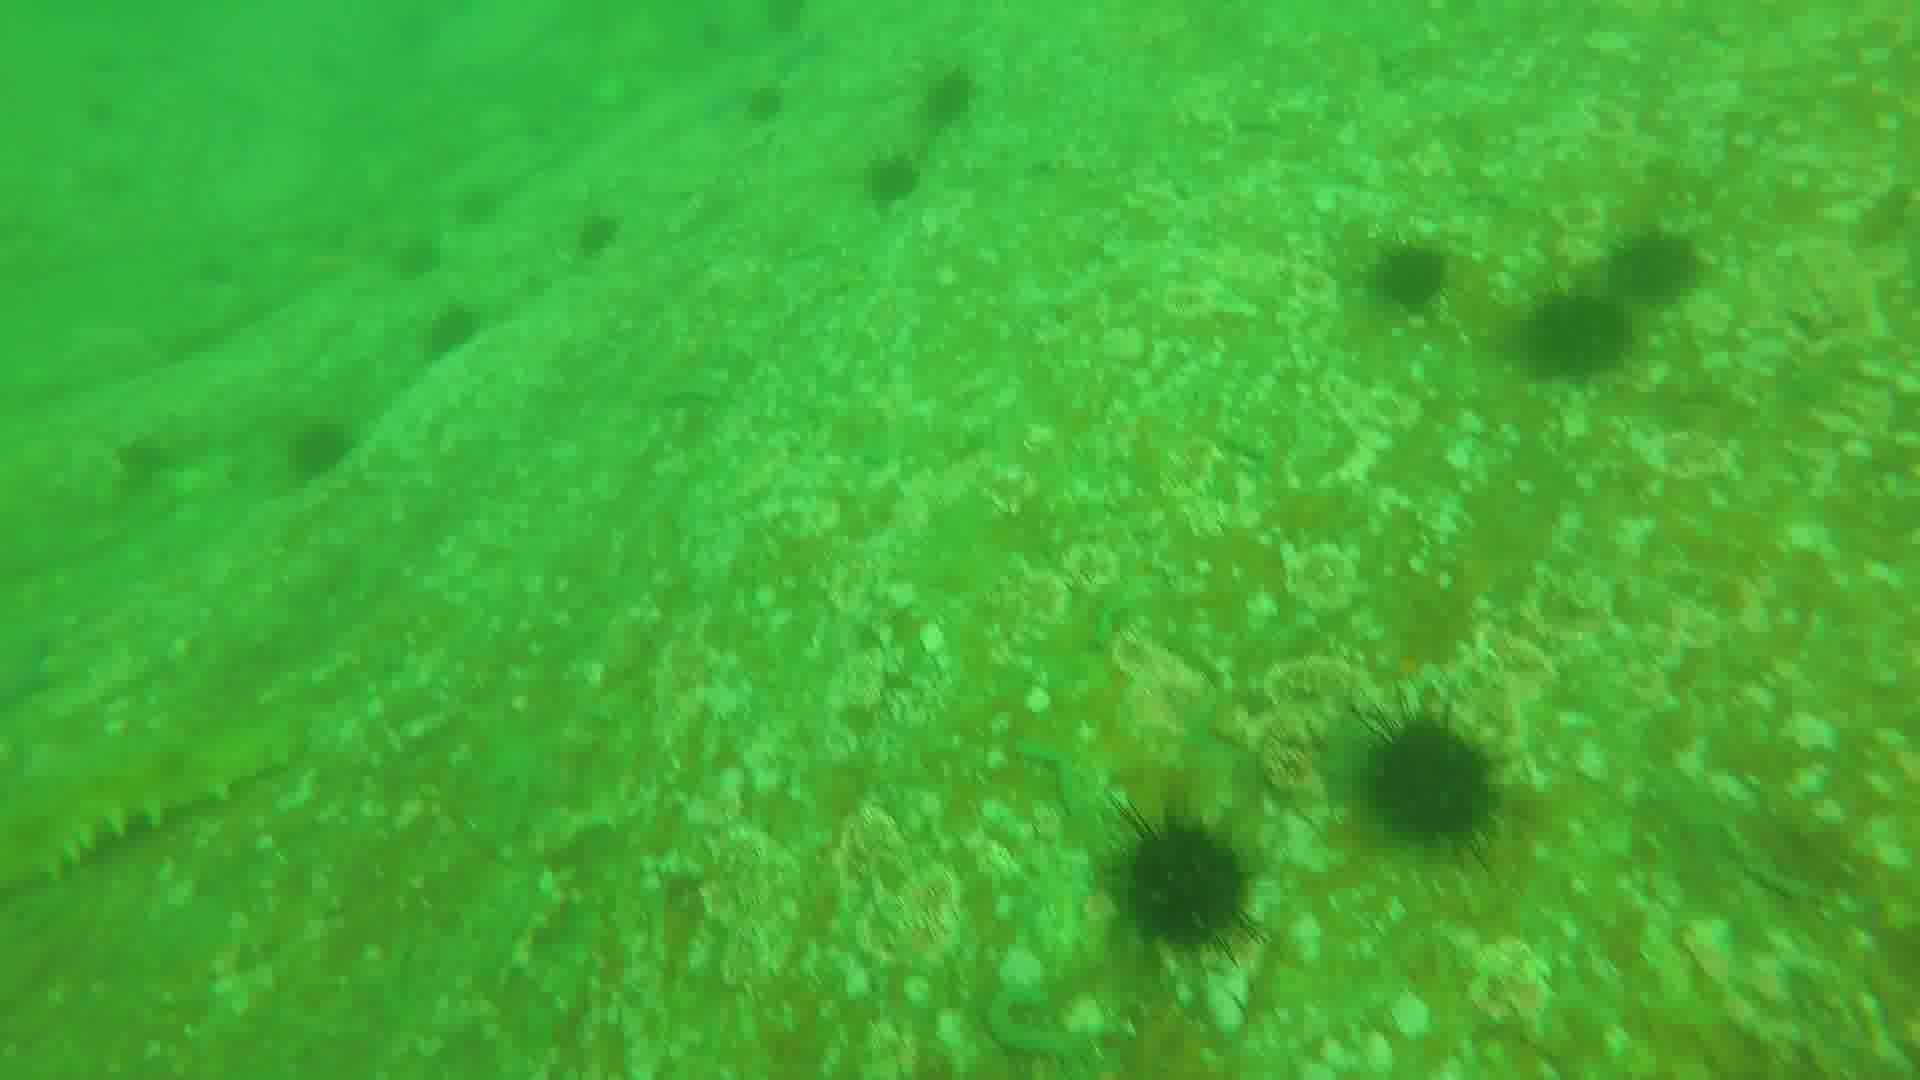echinus: (1118, 808, 1266, 957), (1367, 711, 1501, 858), (1519, 291, 1636, 384), (1619, 219, 1712, 316), (1370, 243, 1453, 316), (285, 429, 348, 489), (924, 67, 982, 127), (864, 154, 934, 200), (574, 204, 626, 258), (456, 185, 516, 227), (427, 309, 477, 357), (746, 84, 791, 124), (396, 240, 446, 274)
holothurian: (1, 725, 305, 902)
